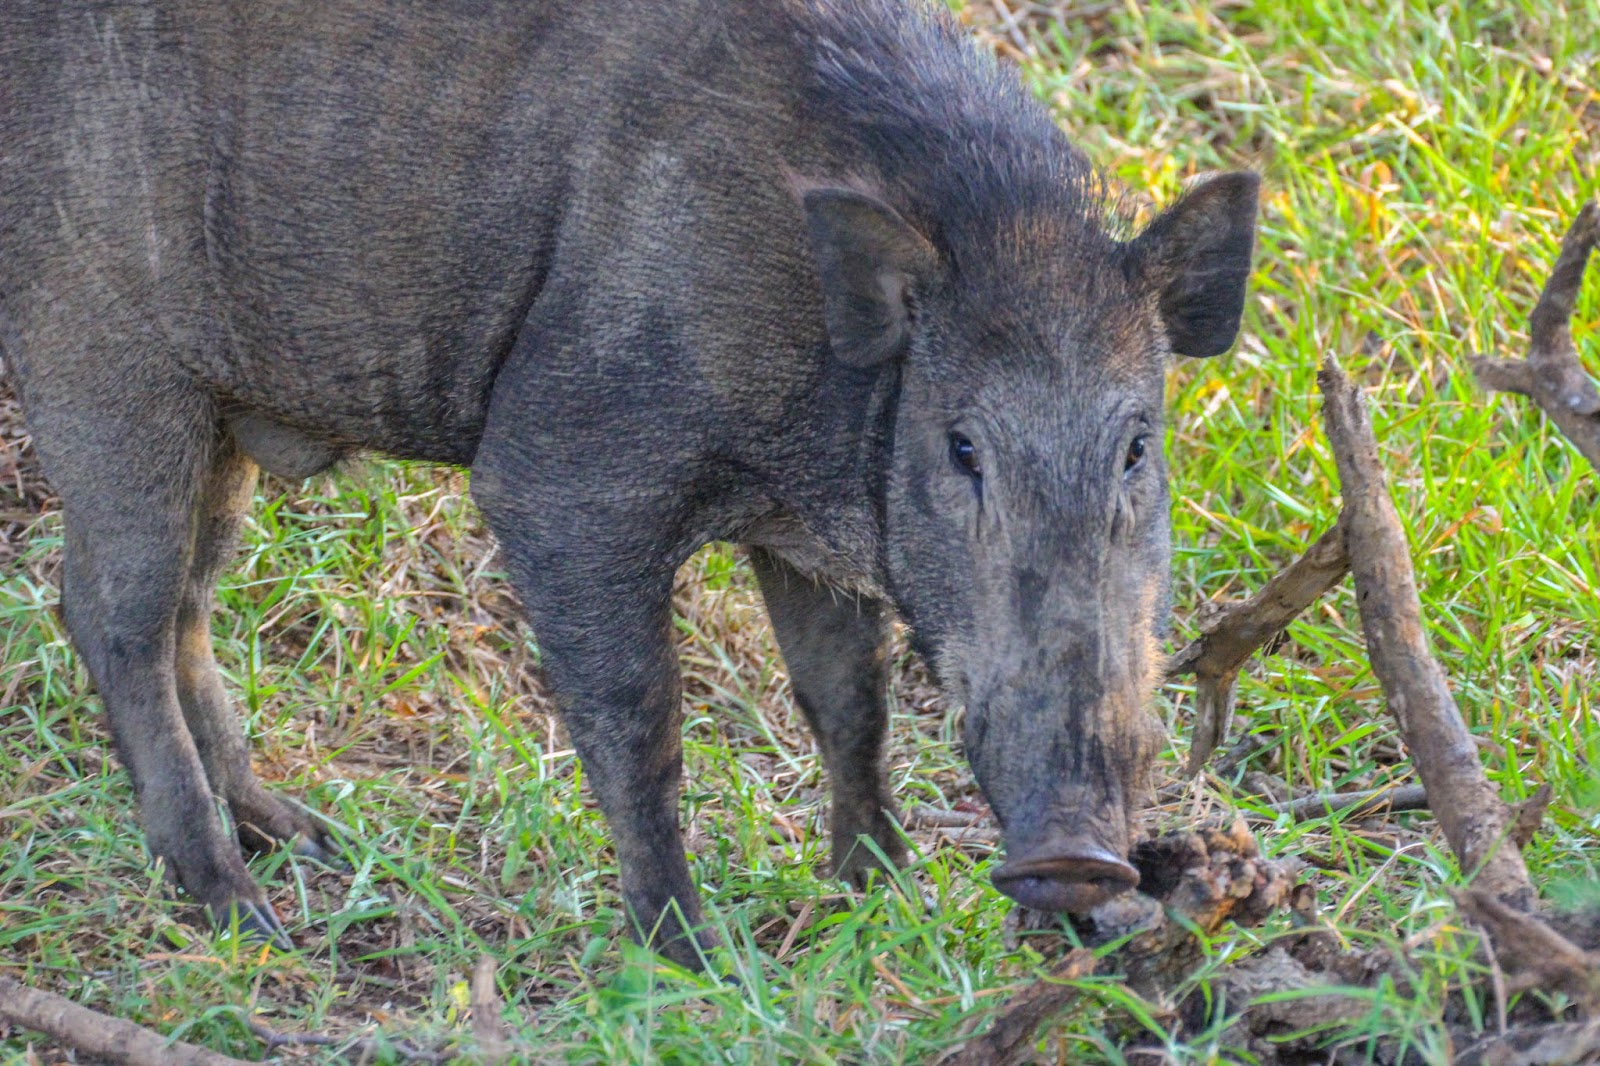wild boar: (1, 1, 1314, 966)
